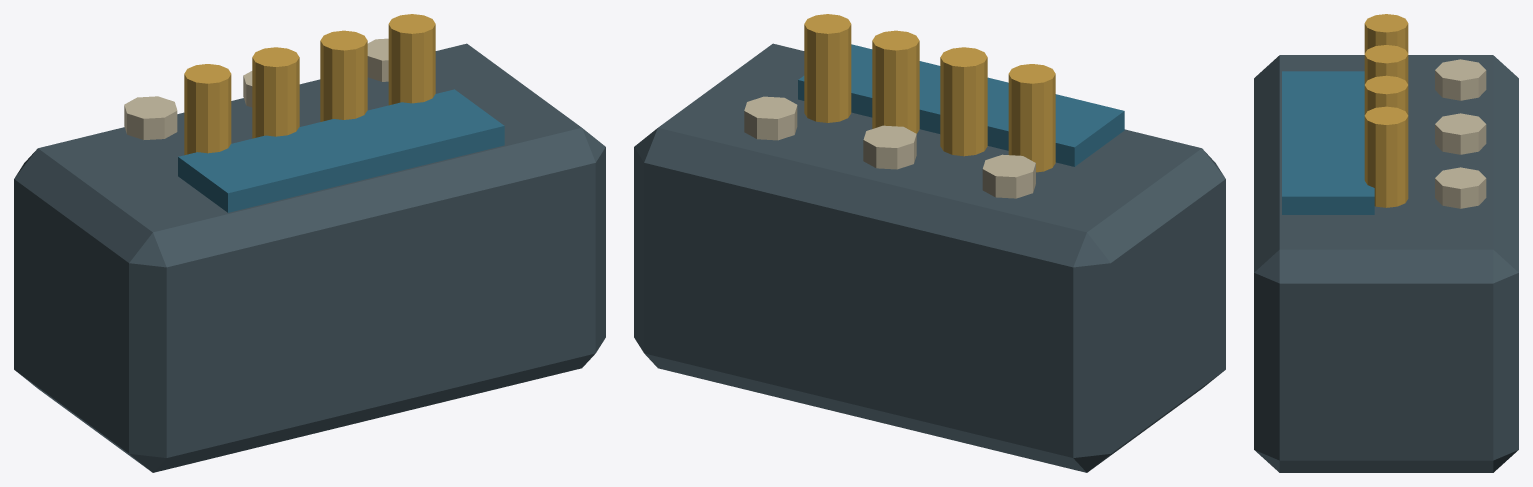
The model's file is set_terminal_block.glb.
The picture shows the model from 3 angles, left to right: view 1: azimuth 30°, elevation 25°; view 2: azimuth 150°, elevation 25°; view 3: azimuth 270°, elevation 25°; orthographic projection. The views are drawn at different scales.
Visible parts, largest first — view 1: set_terminal_block; view 2: set_terminal_block; view 3: set_terminal_block.
Boxes of the visible parts, left/top/right/bottom form: set_terminal_block: left=14, top=14, right=605, bottom=472; set_terminal_block: left=634, top=14, right=1225, bottom=472; set_terminal_block: left=1254, top=14, right=1518, bottom=472.
Size of the model in its own units: 0.28 by 0.185 by 0.145.
